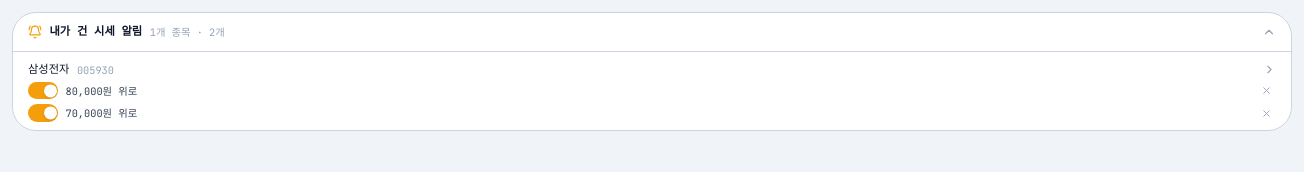
누르면 화면이 먼저 바뀐다 › 지우기도 서버를 안 기다린다
The width and height of the screenshot is (1304, 172).
Check: the text "80,000원 위로" is shown, box [66, 84, 137, 98]
Click the button named "지우기". click: (1267, 91)
box: [1258, 82, 1276, 100]
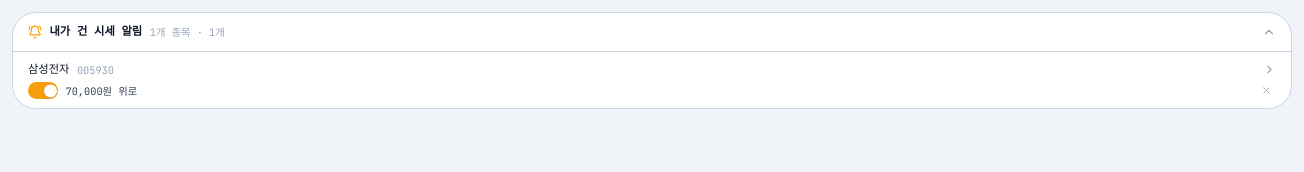
Check: the text "70,000원 위로" is shown, box [66, 84, 137, 98]
Check: the text "80,000원 위로" is gone
